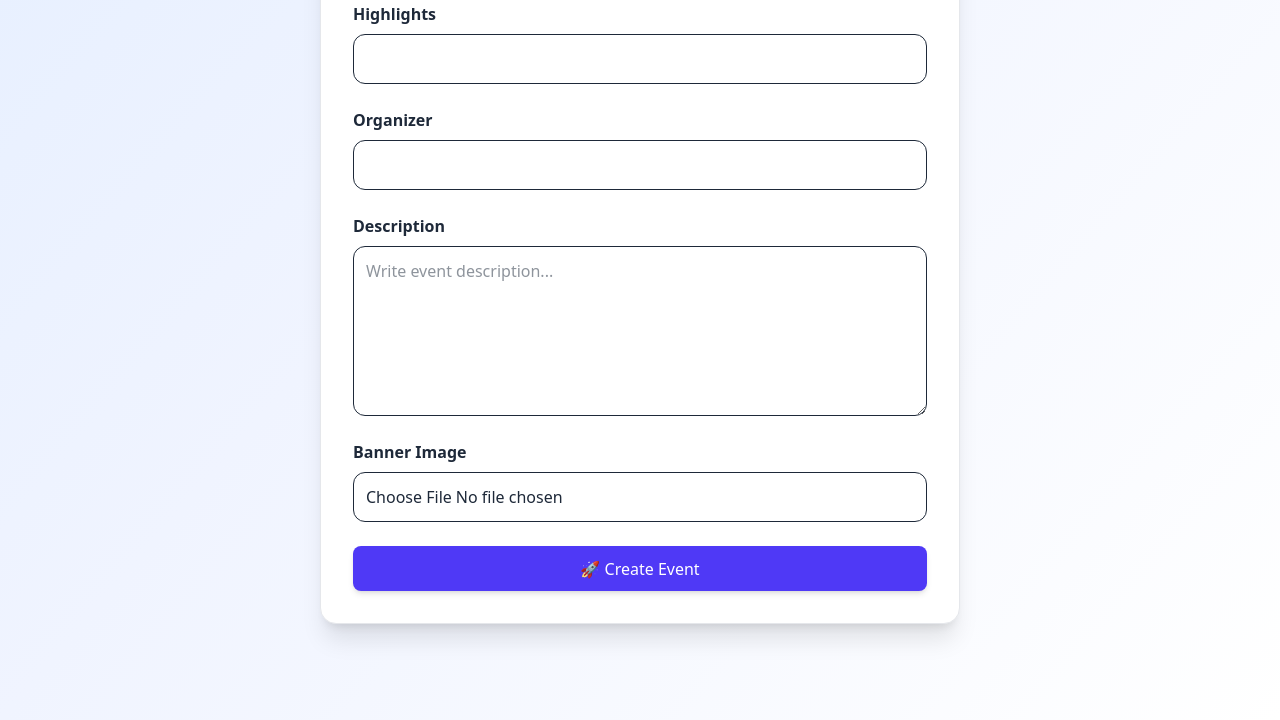
Test: AddEvent › shows validation errors when required fields are empty
The width and height of the screenshot is (1280, 720).
(page scrolled)
Click the button "🚀 Create Event".
click(640, 569)  # box [353,546,927,591]
(page scrolled)
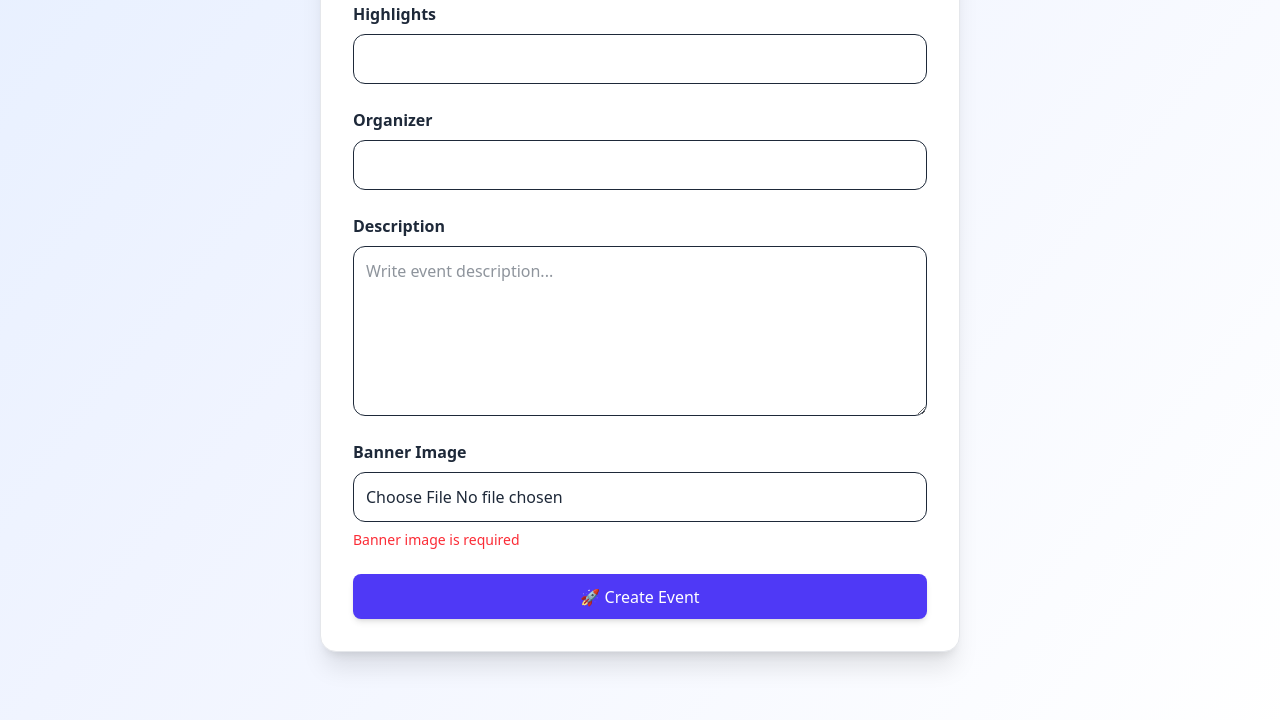
Now the text "Banner image is required" is shown, box [353,530,520,549]
